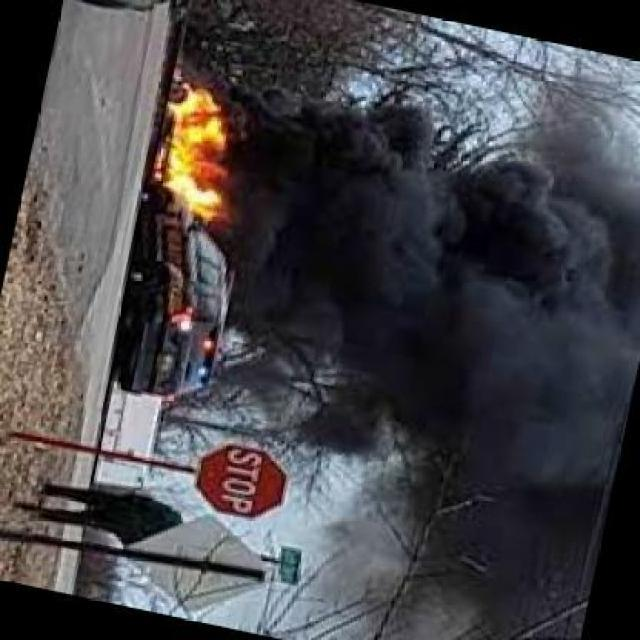Fire: (156, 72, 237, 220)
Smoke: (443, 82, 624, 638), (234, 74, 437, 460), (319, 480, 426, 640)
